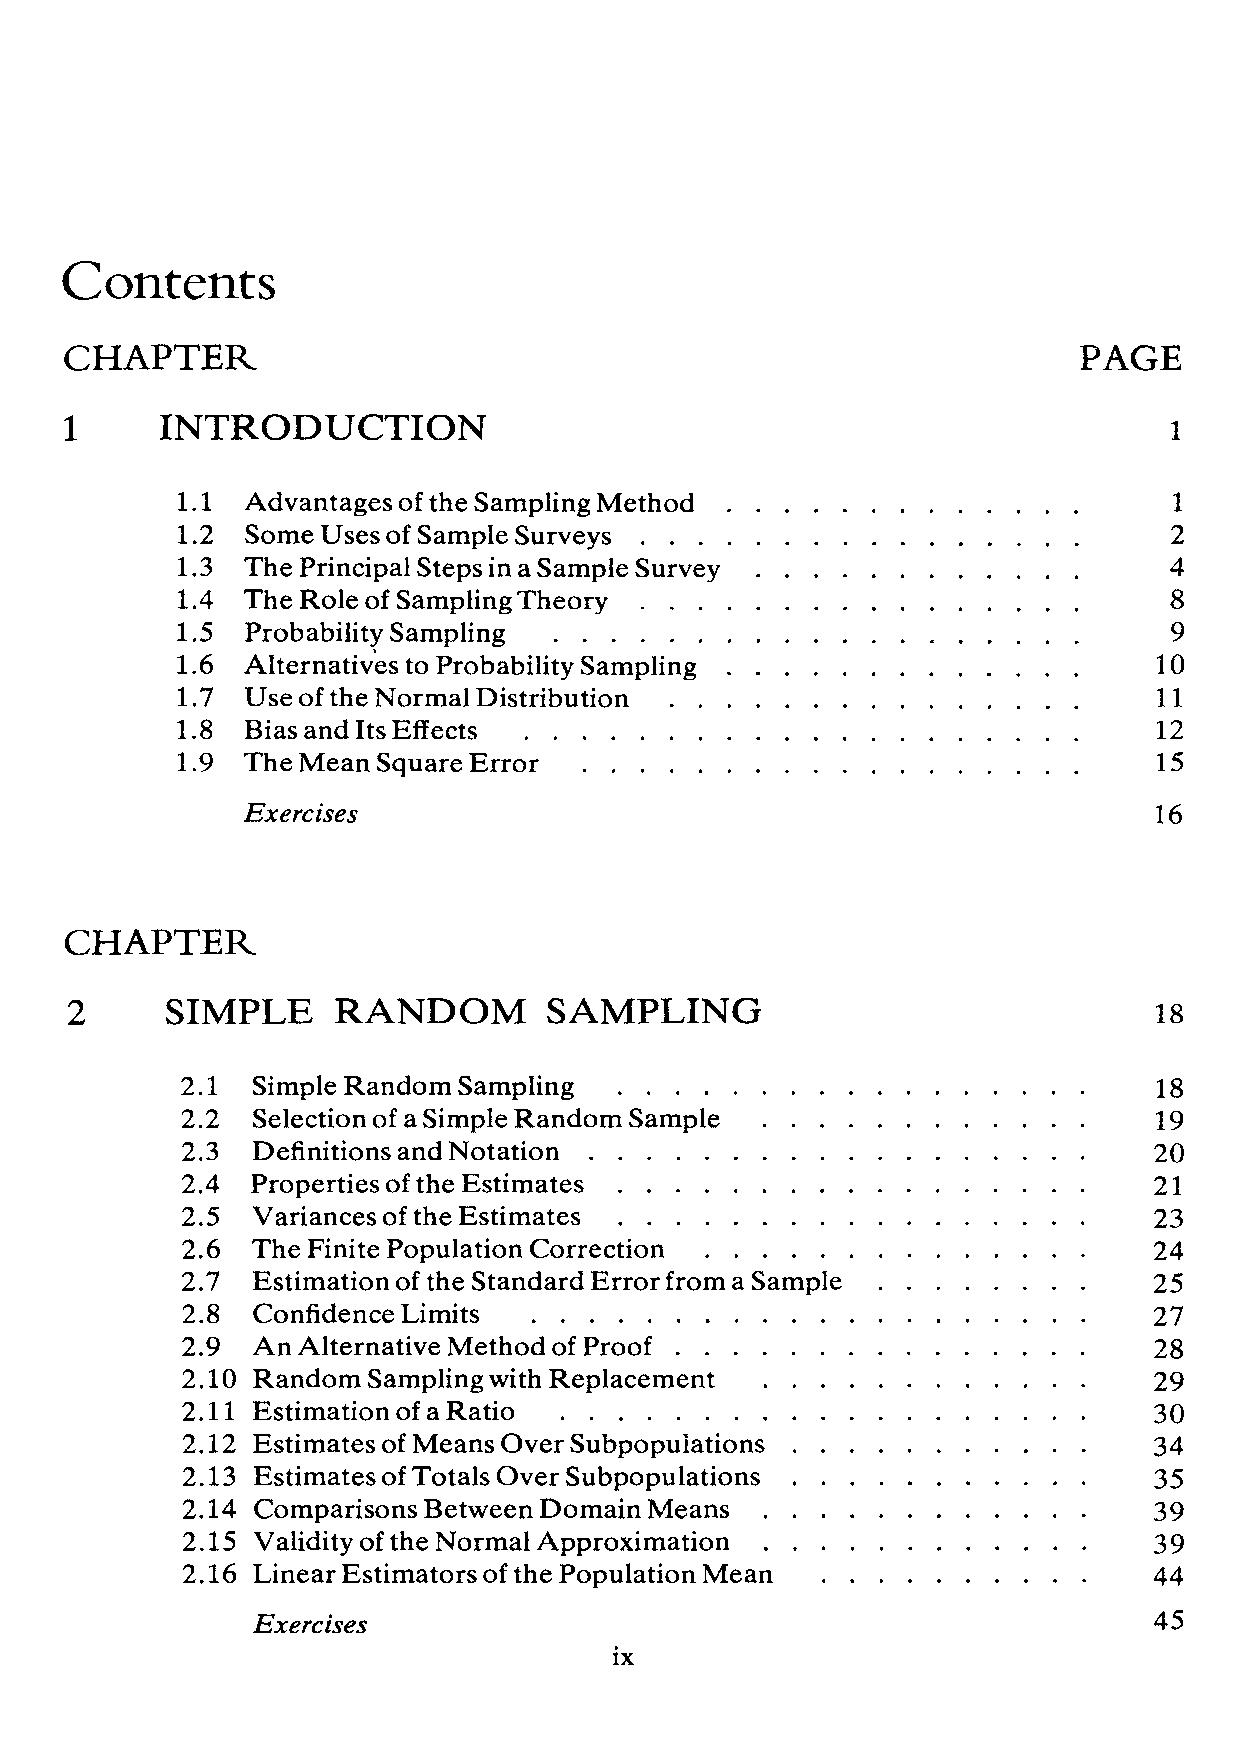TOC_chapter: (62, 994, 770, 1029), (60, 407, 497, 450), (178, 1268, 845, 1295), (172, 552, 725, 581), (183, 1559, 776, 1586), (174, 486, 705, 515), (183, 1429, 761, 1456), (174, 651, 699, 680), (178, 1463, 761, 1487), (183, 1529, 731, 1554), (176, 1106, 723, 1131), (180, 1496, 734, 1520), (173, 585, 611, 615), (183, 1368, 717, 1392), (176, 684, 629, 713), (178, 1235, 668, 1260), (178, 1333, 656, 1358), (173, 522, 613, 548), (177, 1202, 586, 1229), (176, 747, 539, 777), (178, 1074, 577, 1100), (178, 1137, 560, 1164), (180, 1172, 586, 1196), (176, 619, 513, 647), (180, 1396, 518, 1423), (174, 715, 480, 742), (183, 1300, 484, 1325), (238, 798, 360, 823), (250, 1610, 372, 1633)
TOC_pagenumber: (1150, 1206, 1190, 1232), (1151, 1431, 1188, 1457), (1155, 998, 1185, 1031), (1151, 1302, 1188, 1327), (1154, 798, 1186, 827), (1155, 749, 1189, 776), (1151, 1606, 1188, 1631), (1150, 1533, 1185, 1557), (1155, 1465, 1186, 1492), (1151, 1270, 1184, 1295), (1151, 1499, 1184, 1525), (1151, 1369, 1186, 1392), (1151, 1563, 1186, 1586), (1151, 1174, 1184, 1198), (1155, 1239, 1185, 1264), (1154, 1334, 1184, 1359), (1155, 651, 1186, 675), (1153, 1141, 1184, 1165), (1154, 1402, 1185, 1427), (1155, 1074, 1185, 1098), (1155, 718, 1188, 739), (1155, 684, 1184, 709), (1155, 1108, 1181, 1131), (1168, 553, 1188, 576), (1168, 620, 1188, 643), (1166, 586, 1186, 608), (1170, 523, 1188, 546), (1170, 484, 1185, 511), (1168, 416, 1182, 442)
chapter: (60, 256, 276, 305)
content_pagenumber: (608, 1643, 639, 1667)
